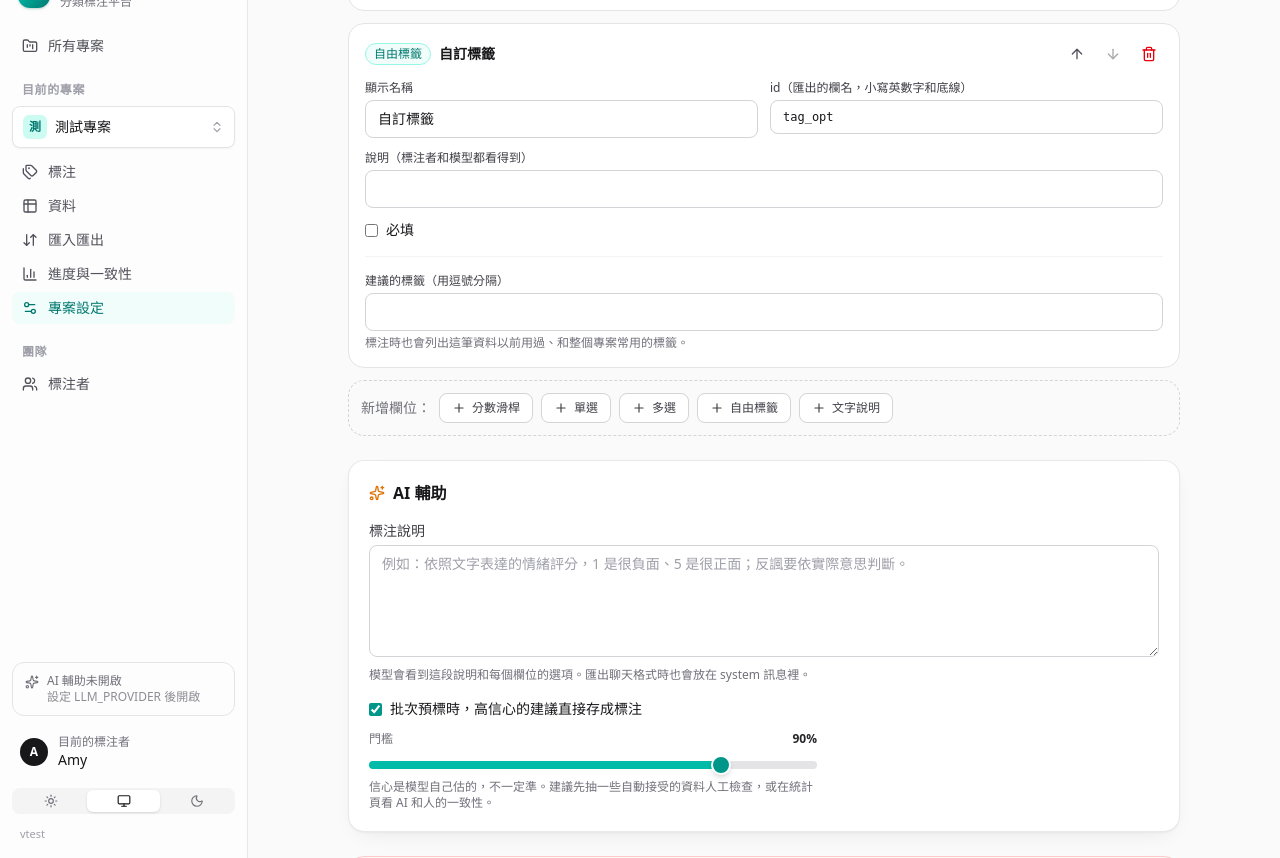
專案設定 › 新增欄位後儲存；後端擋下時顯示原因
(page scrolled)
Click the button "多選". click: (654, 408)
box: top-left (619, 393), bottom-right (689, 423)
(page scrolled)
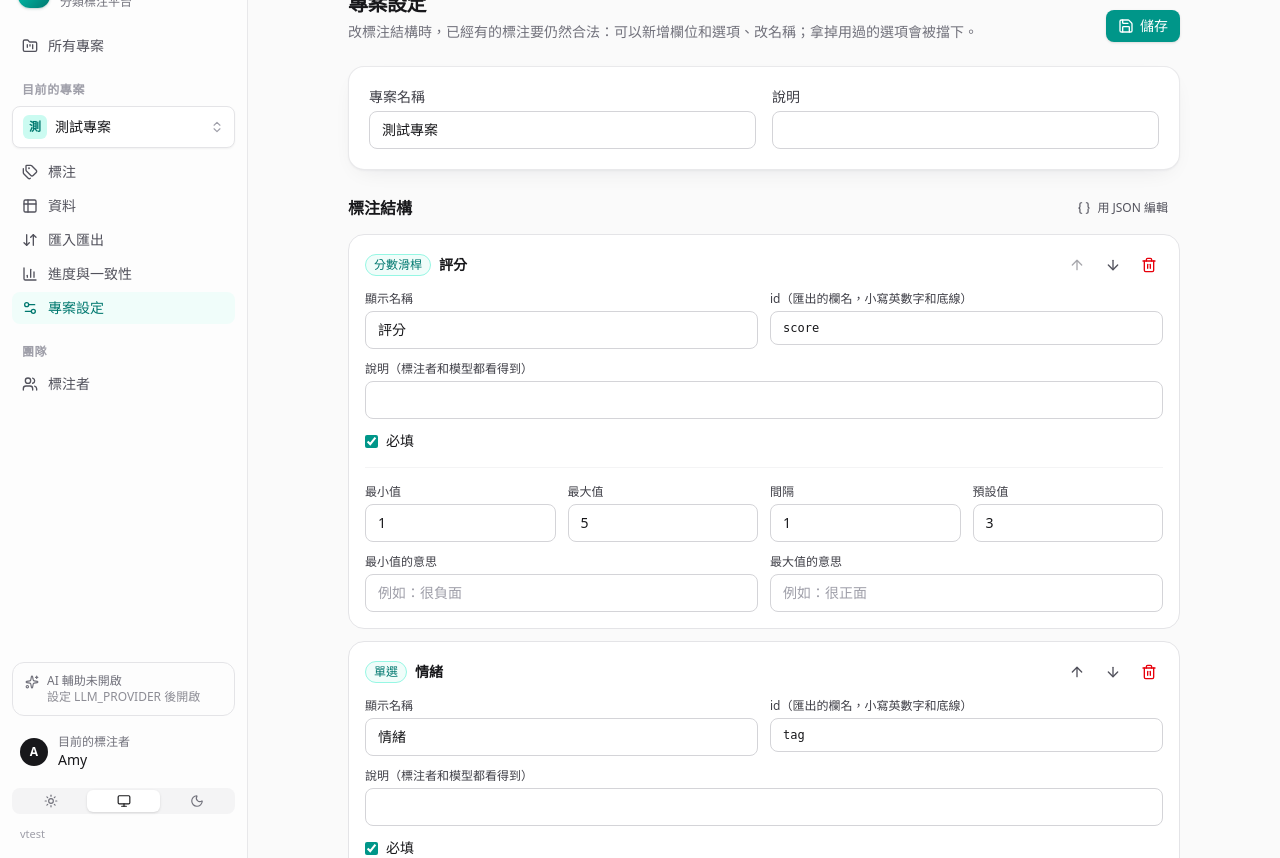
Click the button "儲存". click: (1143, 26)
box: top-left (1106, 10), bottom-right (1180, 42)
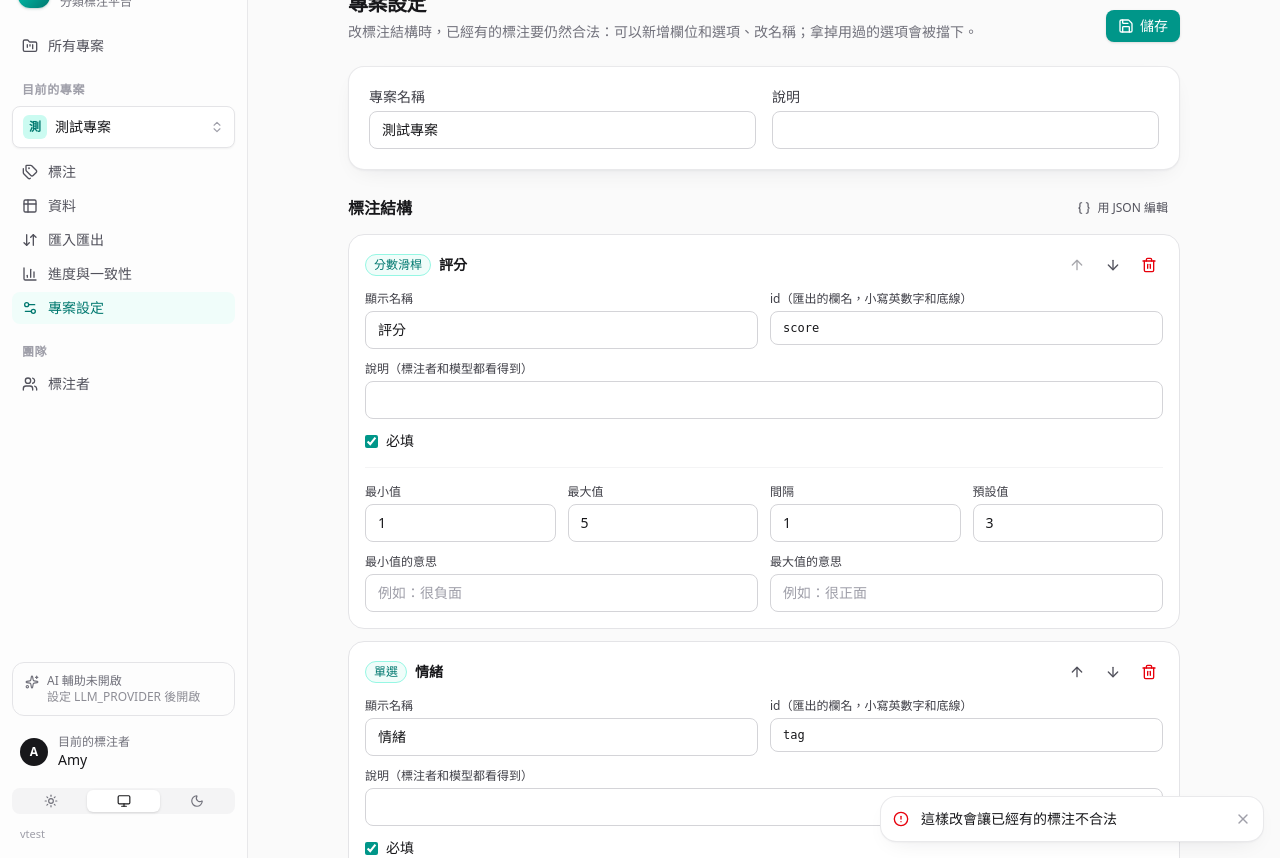
Expected: the text "這樣改會讓已經有的標注不合法" is shown, top-left (921, 809), bottom-right (1117, 828)
Click the button "儲存". click: (1143, 26)
box: top-left (1106, 10), bottom-right (1180, 42)
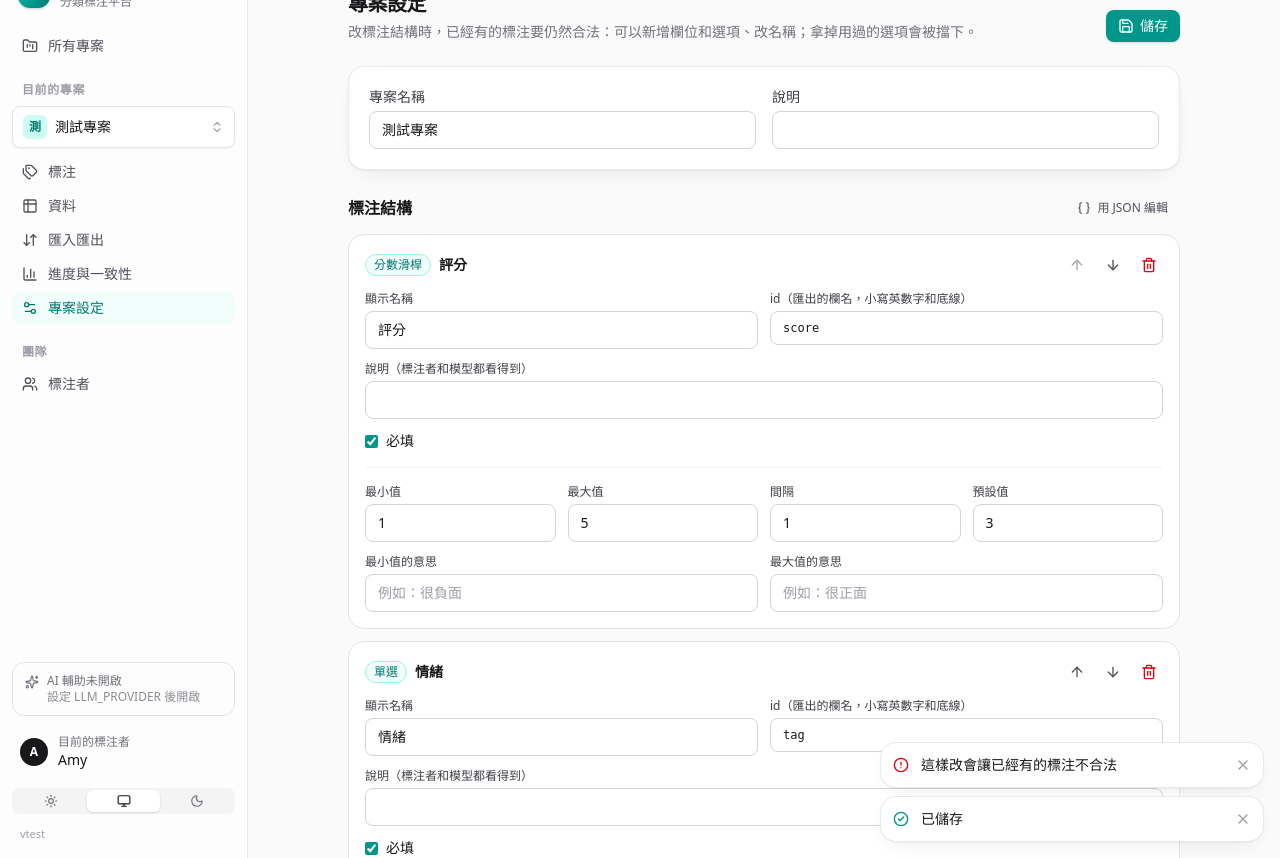
Expected: the text "已儲存" is shown, top-left (921, 809), bottom-right (963, 828)
